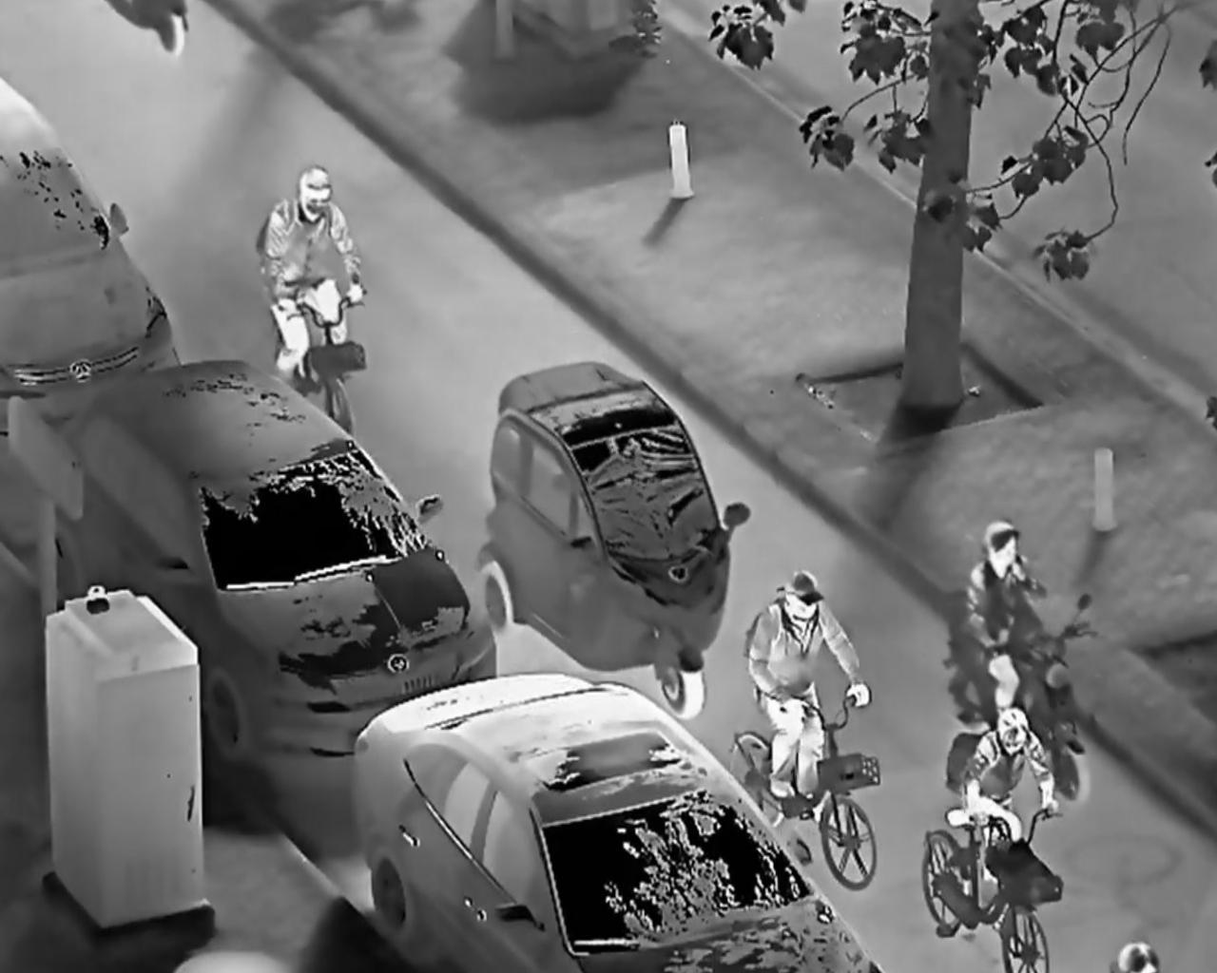person: (742, 566, 875, 804), (253, 163, 369, 391), (956, 704, 1069, 881), (958, 515, 1053, 714)
